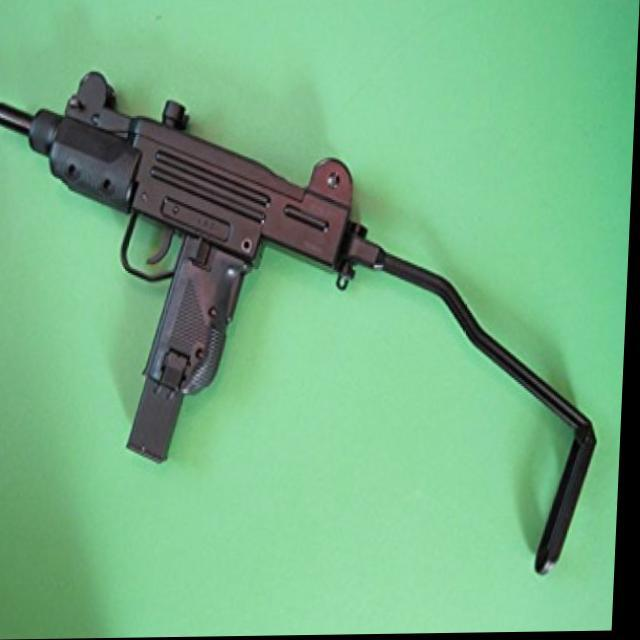weapon: (0, 62, 615, 580)
